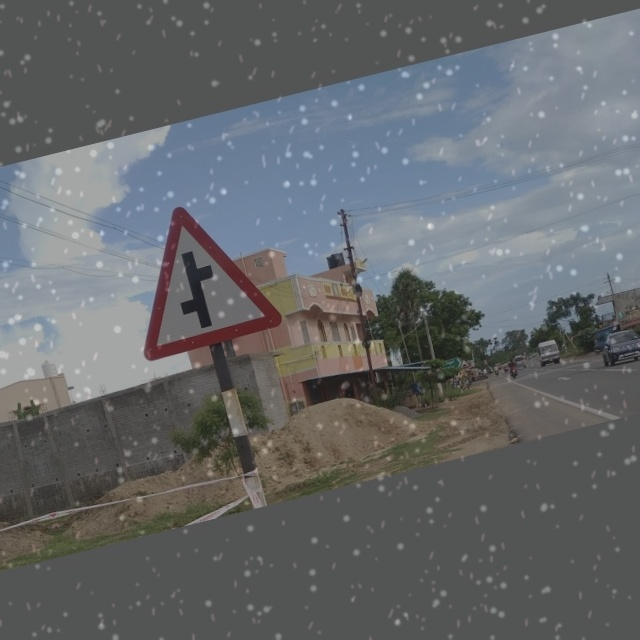Staggered_Intersection: (98, 183, 293, 368)
